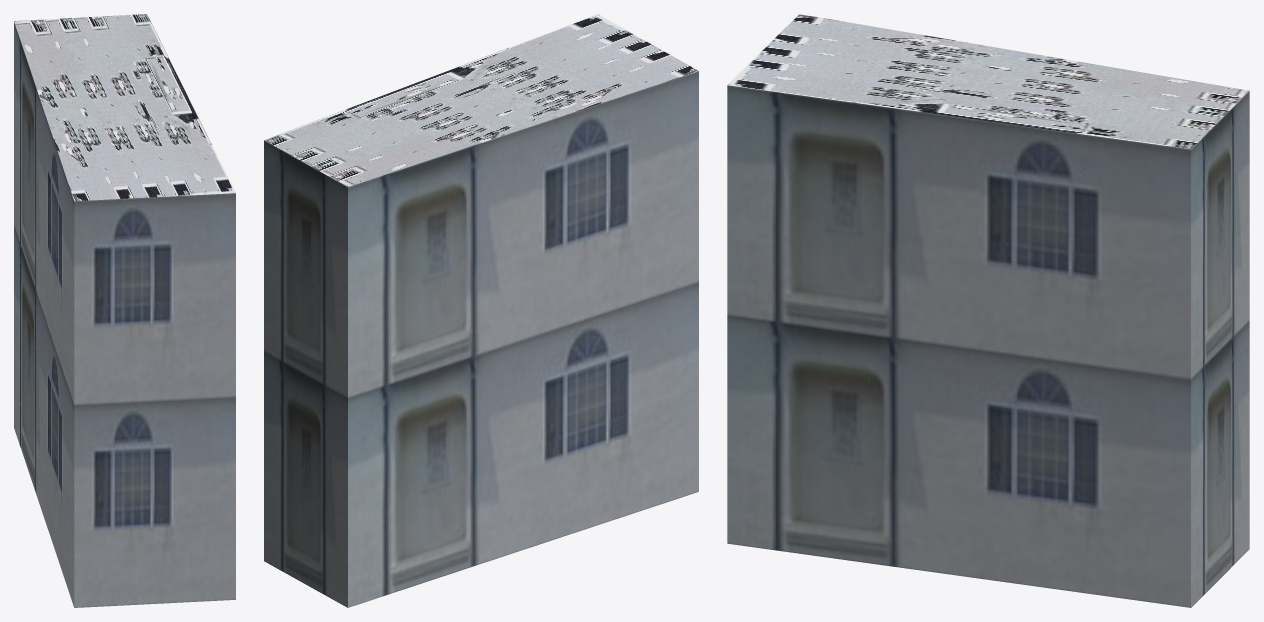
The model's file is ResTex__406.fbx.
3 views of the same model, side by side, from view 1: azimuth 30°, elevation 25°; view 2: azimuth 150°, elevation 25°; view 3: azimuth 270°, elevation 25° (orthographic). The views are drawn at different scales.
Parts seen in each view (by area): view 1: CityEngineMaterial_17_m, CityEngineMaterial_4_m; view 2: CityEngineMaterial_17_m, CityEngineMaterial_4_m; view 3: CityEngineMaterial_17_m, CityEngineMaterial_4_m.
Part boxes in pixels (<box>): CityEngineMaterial_17_m: <box>14,22,235,607</box>; CityEngineMaterial_4_m: <box>14,14,235,201</box>; CityEngineMaterial_17_m: <box>264,71,698,607</box>; CityEngineMaterial_4_m: <box>264,14,698,186</box>; CityEngineMaterial_17_m: <box>727,85,1249,607</box>; CityEngineMaterial_4_m: <box>727,14,1249,149</box>.
Bounding box in the file's own units: 3.81 × 6 × 6.2.
2 materials, 2 textured.
